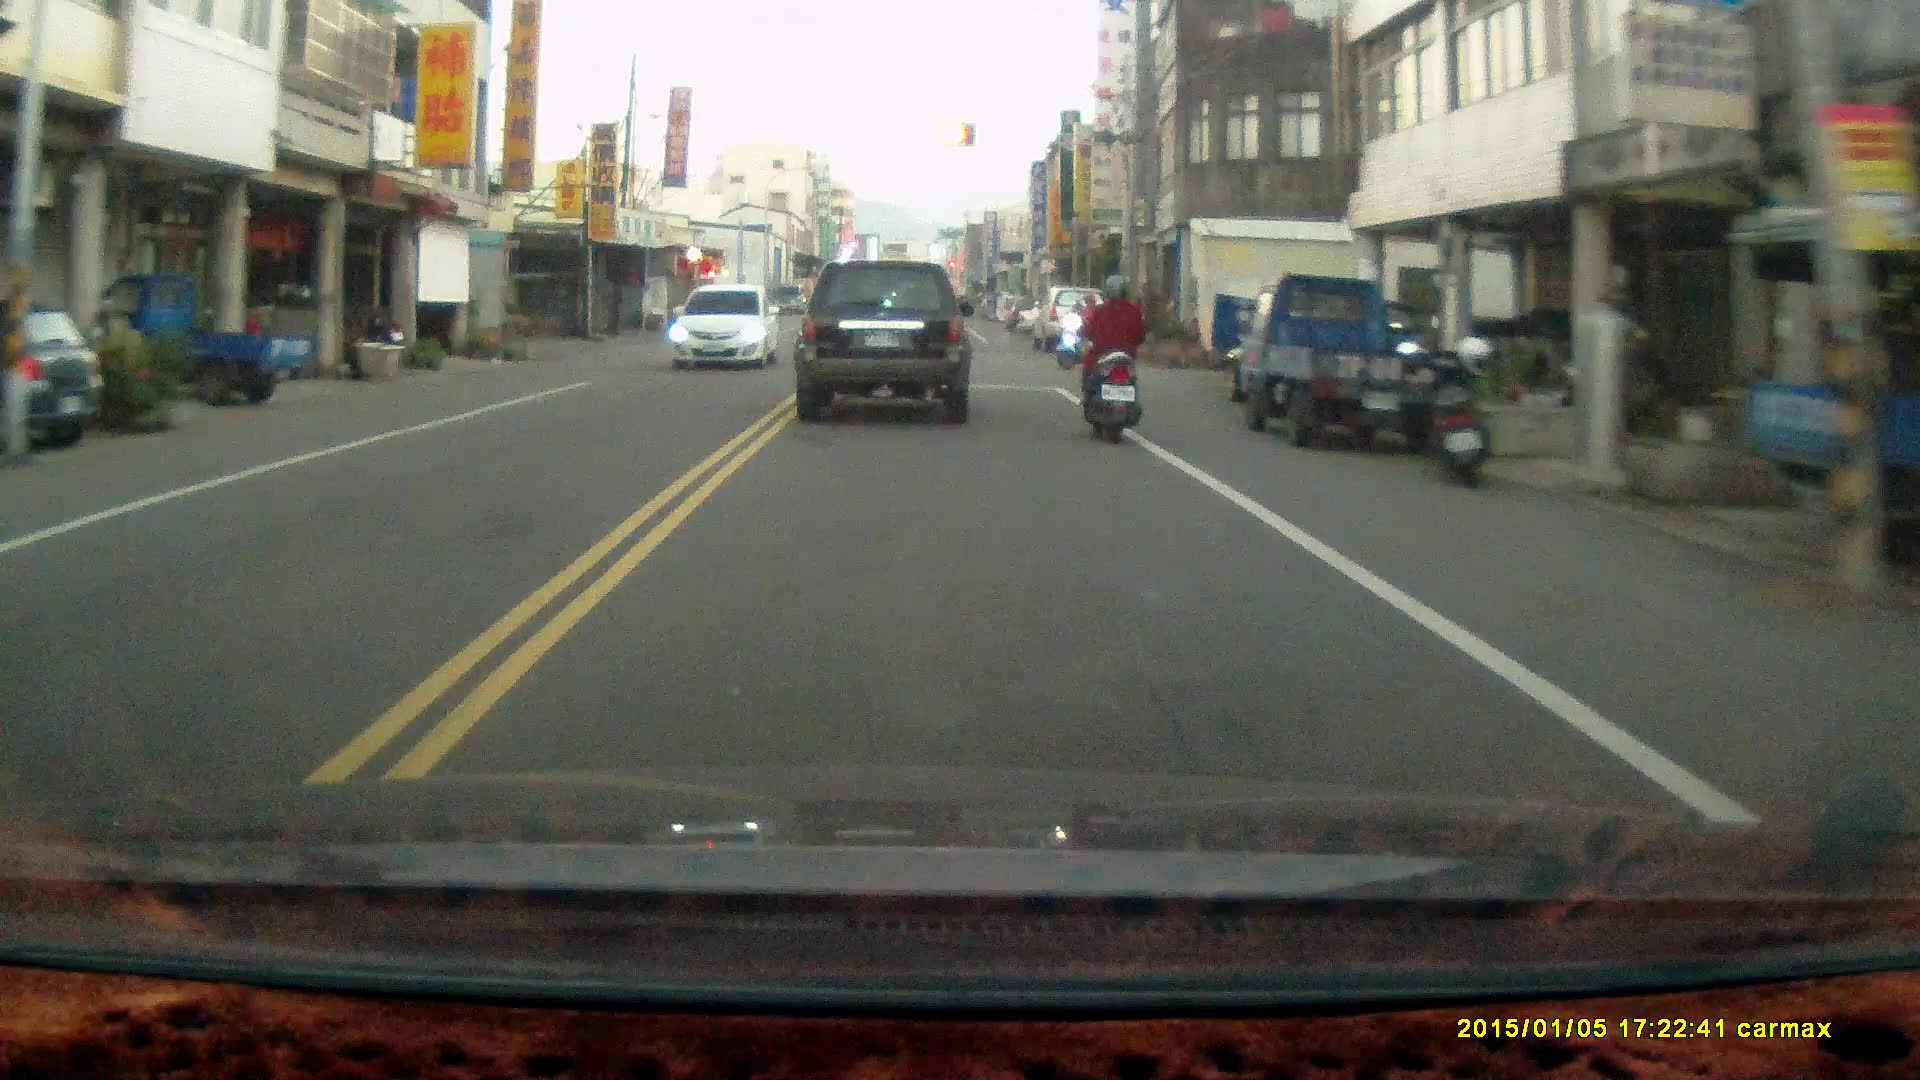rider: (1079, 272, 1142, 446), (1055, 294, 1106, 369)
vehicle: (1238, 278, 1467, 454), (78, 272, 322, 409), (794, 263, 973, 431), (1, 303, 105, 451), (666, 282, 782, 373), (1033, 287, 1111, 355)
